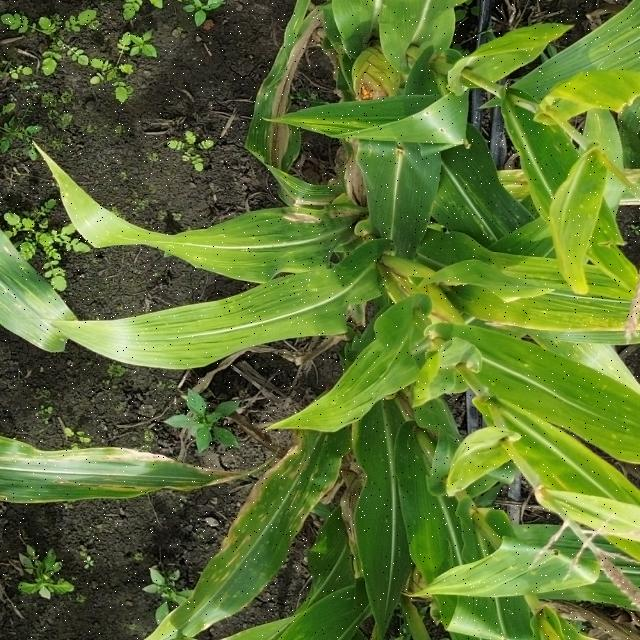gray-leaf-spot: (230, 446, 320, 572), (2, 444, 128, 495), (0, 252, 65, 347), (534, 114, 581, 160)
northern-leaf-blight: (257, 10, 317, 167)
southern-leaf-blight: (349, 417, 415, 529), (429, 176, 516, 238), (206, 285, 326, 323), (191, 225, 273, 277), (580, 376, 638, 449), (477, 546, 556, 597), (537, 296, 636, 335)
